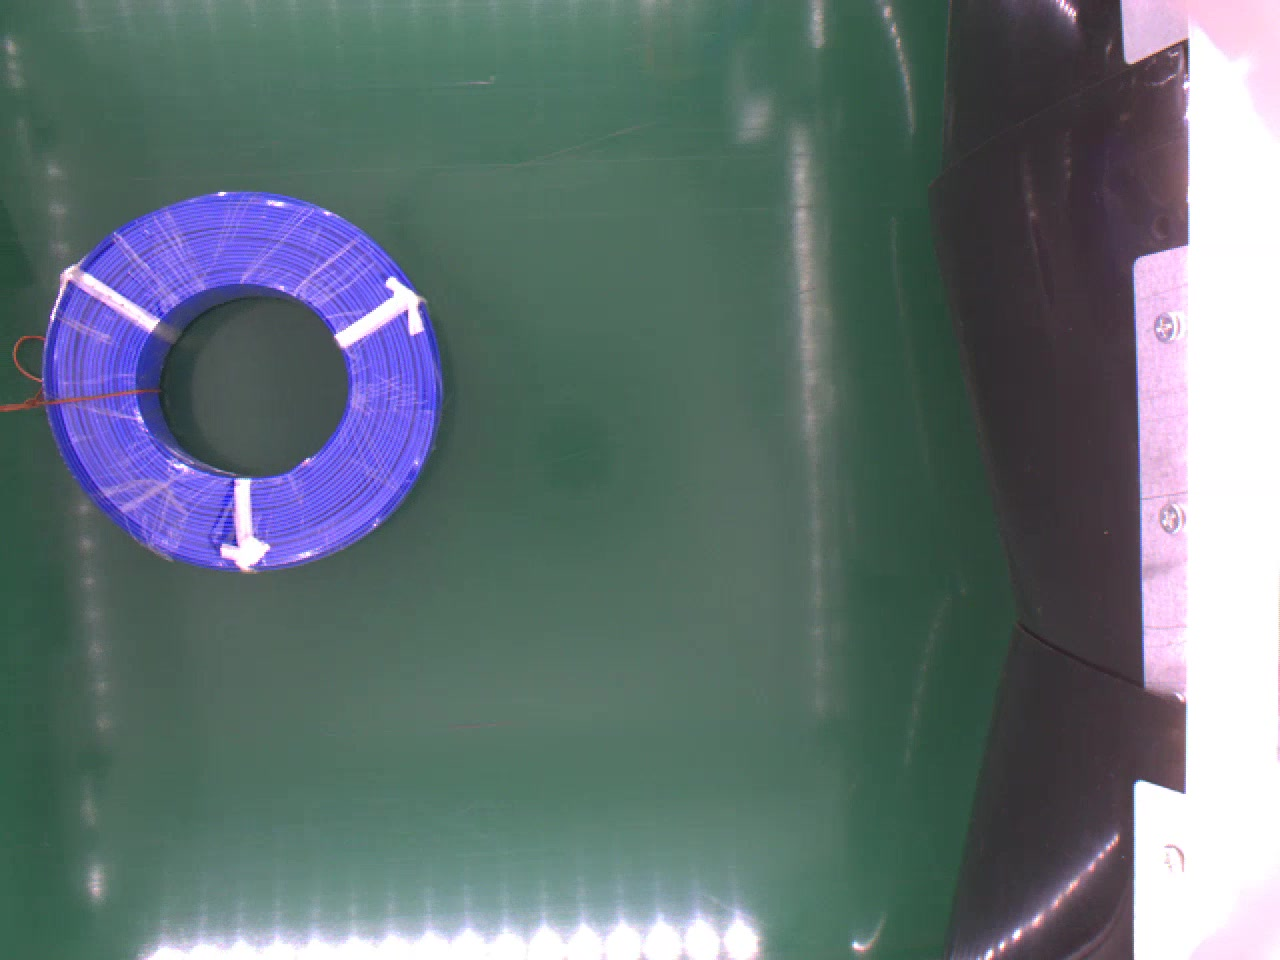blue: (44, 191, 440, 573)
